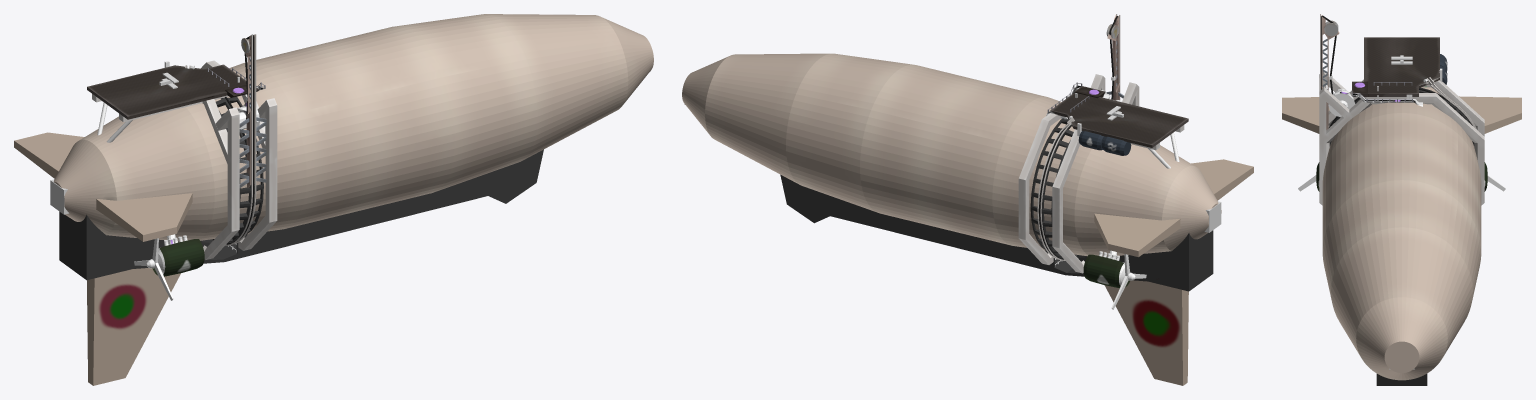
Rendered from AirCarrierDrop.fbx.
3 views of the same model, side by side, from view 1: azimuth 30°, elevation 25°; view 2: azimuth 150°, elevation 25°; view 3: azimuth 270°, elevation 25° (orthographic). The views are drawn at different scales.
Parts seen in each view (by area): view 1: Cylinder; view 2: Cylinder; view 3: Cylinder.
Boxes of the visible parts, x1,y1,x2,y2 form: Cylinder: [14, 14, 653, 385]; Cylinder: [682, 14, 1253, 385]; Cylinder: [1282, 14, 1521, 385].
Bounding box in the file's own units: 2501 × 1434 × 952.
